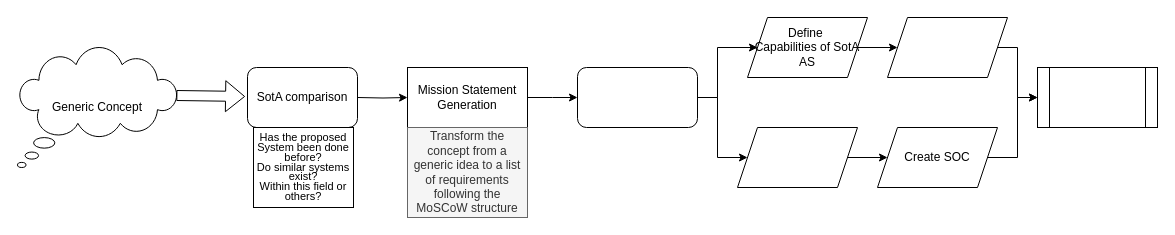
This 1175x235 diagram has some shape labels left out. The centre of each missing label's shape, as x and y in pixels:
Create intial ODM: [947,47]
Define Area of Operation: [797,157]
Define Operating Scenarioes: [1097,97]
Operating Area Determination: [637,97]
